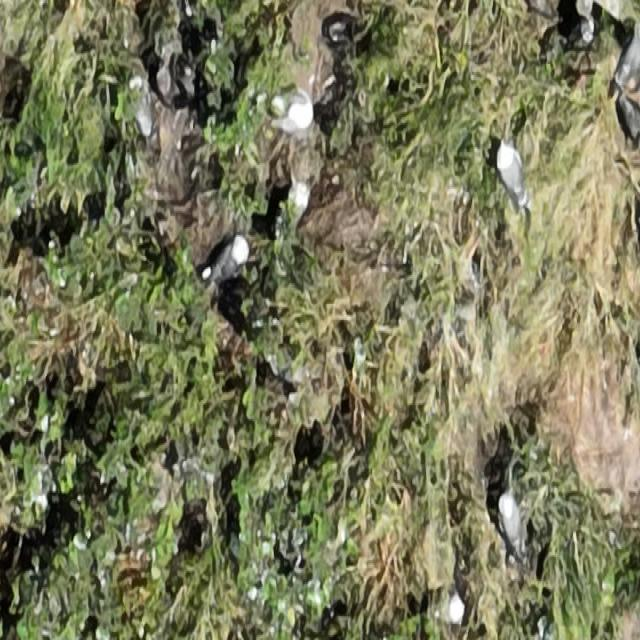umineko: (269, 78, 314, 130), (498, 141, 529, 212), (212, 234, 248, 280), (499, 493, 523, 559), (286, 180, 308, 238), (430, 593, 464, 626)
